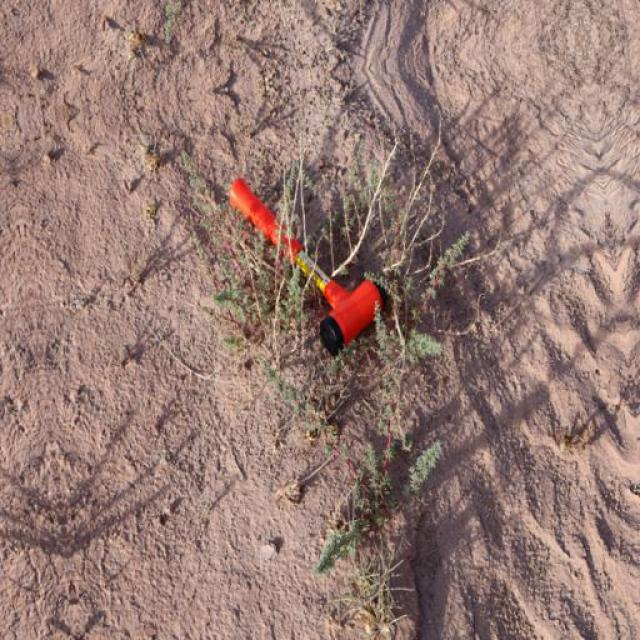mallet: (225, 175, 384, 356)
